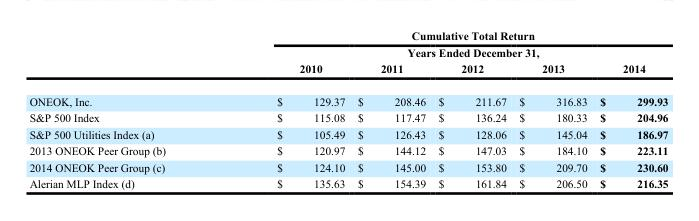table: (28, 29, 667, 189)
table column: (28, 29, 220, 189), (220, 29, 350, 189), (350, 29, 431, 189), (431, 29, 512, 189), (512, 29, 593, 189), (593, 29, 667, 189)
table column header: (28, 29, 667, 84)
table row: (28, 29, 667, 60), (28, 84, 667, 109), (28, 60, 667, 84), (28, 125, 667, 142), (28, 158, 667, 175), (28, 109, 667, 125), (28, 142, 667, 158), (28, 175, 667, 189)
table spanning cell: (220, 29, 667, 60)
